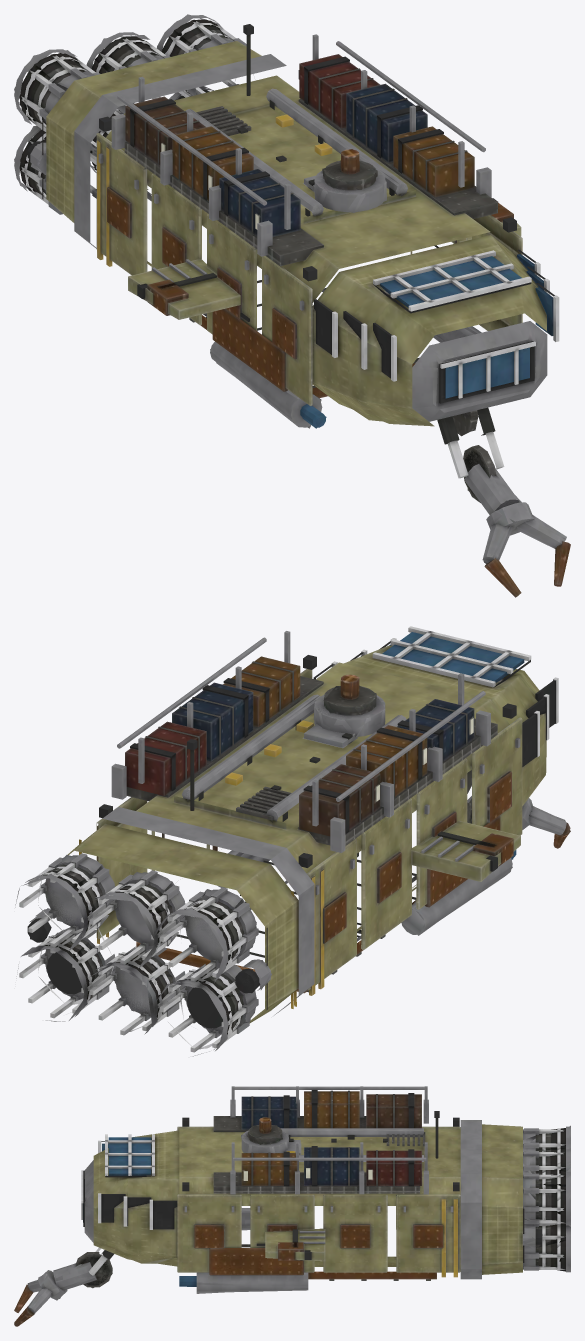
The model's file is sd_ship_yuk.glb.
The picture shows the model from 3 angles, top to bottom: view 1: azimuth 30°, elevation 25°; view 2: azimuth 150°, elevation 25°; view 3: azimuth 270°, elevation 25°; orthographic projection. The views are drawn at different scales.
Visible parts, largest first — view 1: LOD0_body, LOD1_body; view 2: LOD0_body, LOD1_body; view 3: LOD0_body, LOD1_body.
Part boxes in pixels (x1,y1,x2,y2): LOD0_body: (14, 15, 570, 597); LOD1_body: (14, 14, 565, 592); LOD0_body: (19, 626, 570, 1052); LOD1_body: (15, 645, 570, 1056); LOD0_body: (14, 1086, 570, 1326); LOD1_body: (14, 1089, 570, 1322).
Size of the model in its own units: 0.4888 by 0.4297 by 1.
1 material, 1 textured.
